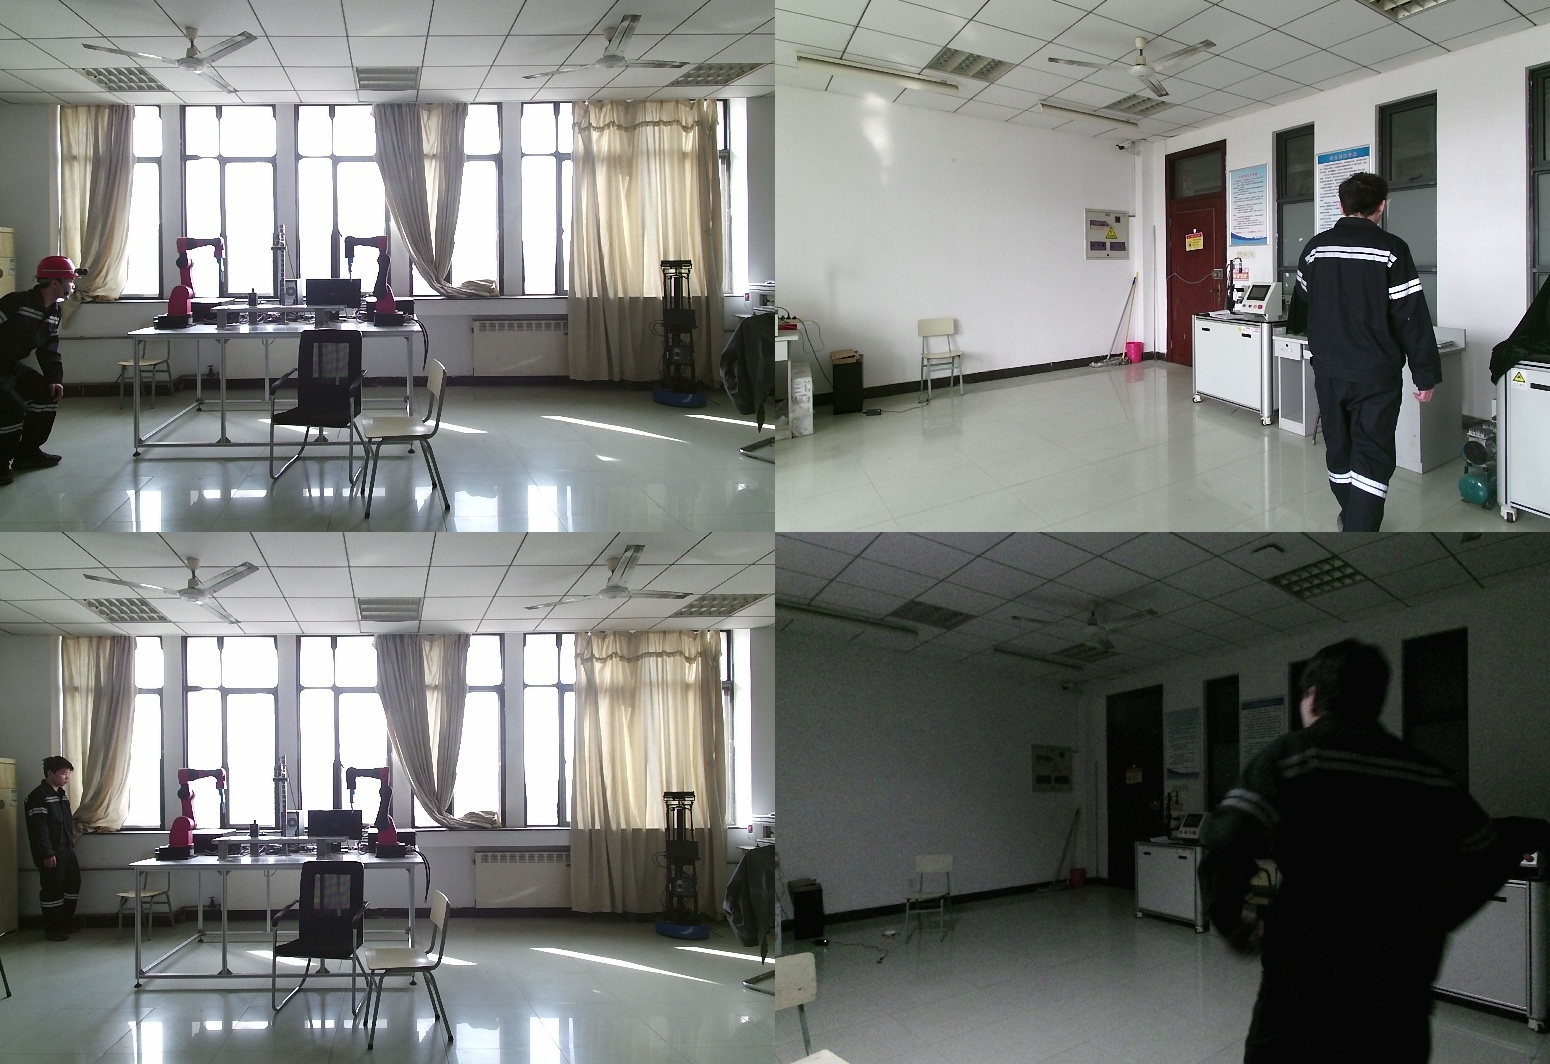person: (1193, 651, 1510, 1064), (1296, 173, 1462, 532), (2, 257, 83, 483), (18, 756, 81, 943)
